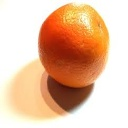orange: (36, 1, 108, 90)
